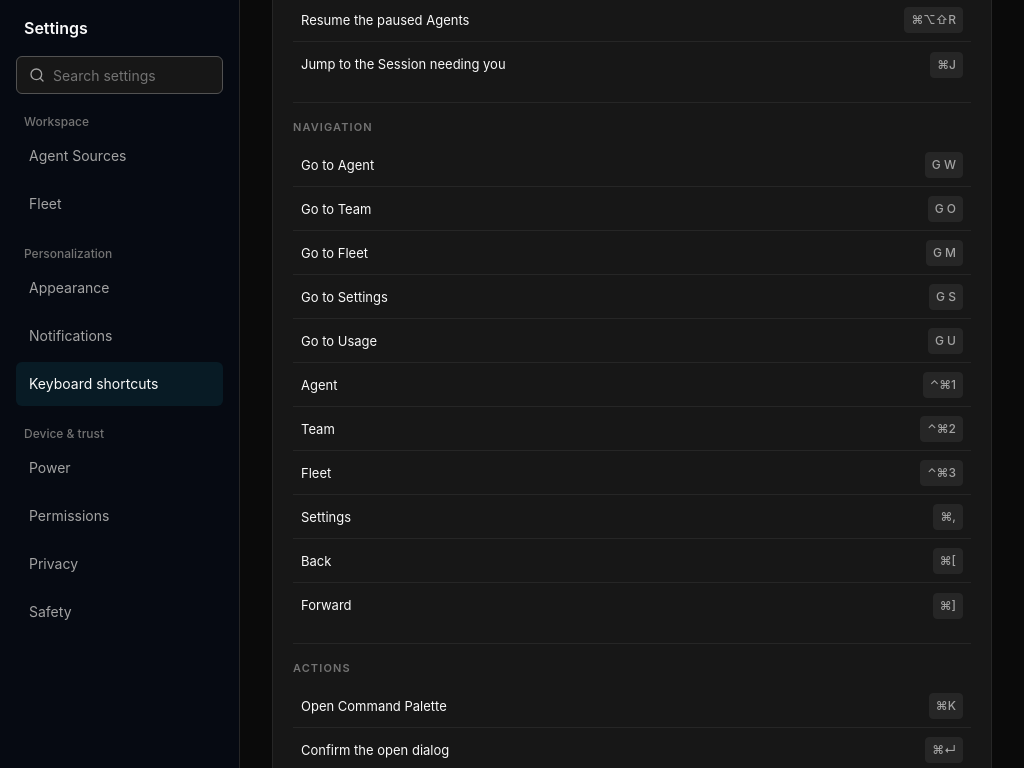
shortcut settings policy › rejects a physical Project ordinal even when Option changes its character
This screenshot has width=1024, height=768.
(page scrolled)
Click the button "⌃⌘1".
click(943, 384)  # box [923,371,963,398]
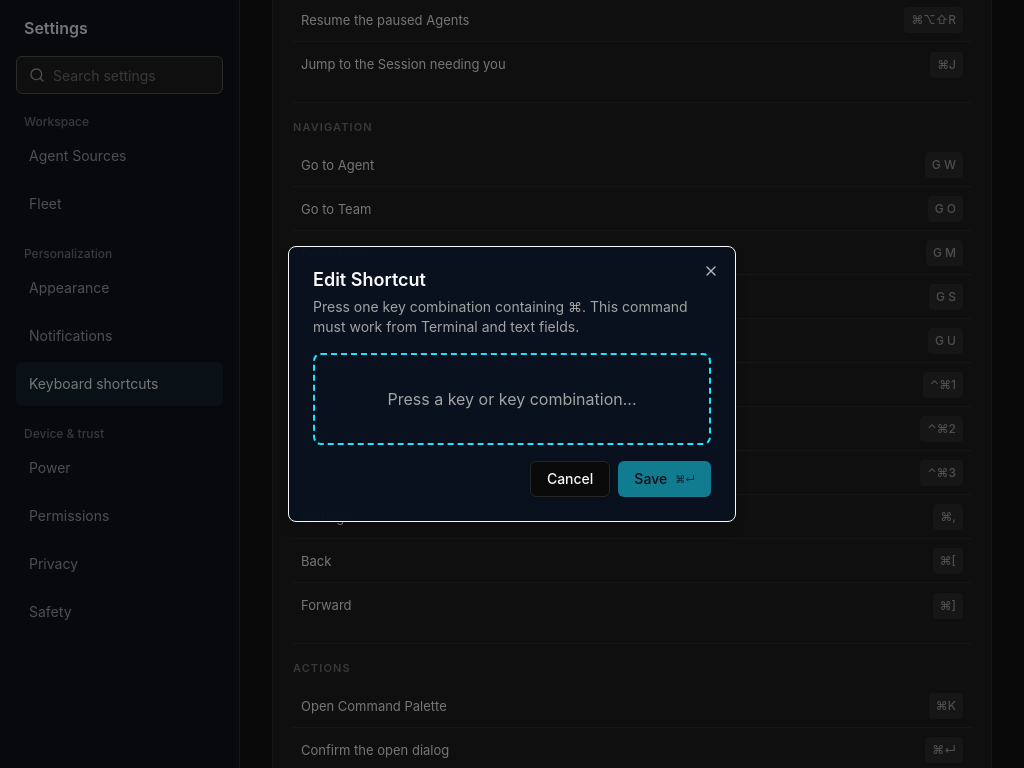
Press ¢ in the element showing "Press a key or key combination...", box [313,353,711,445]
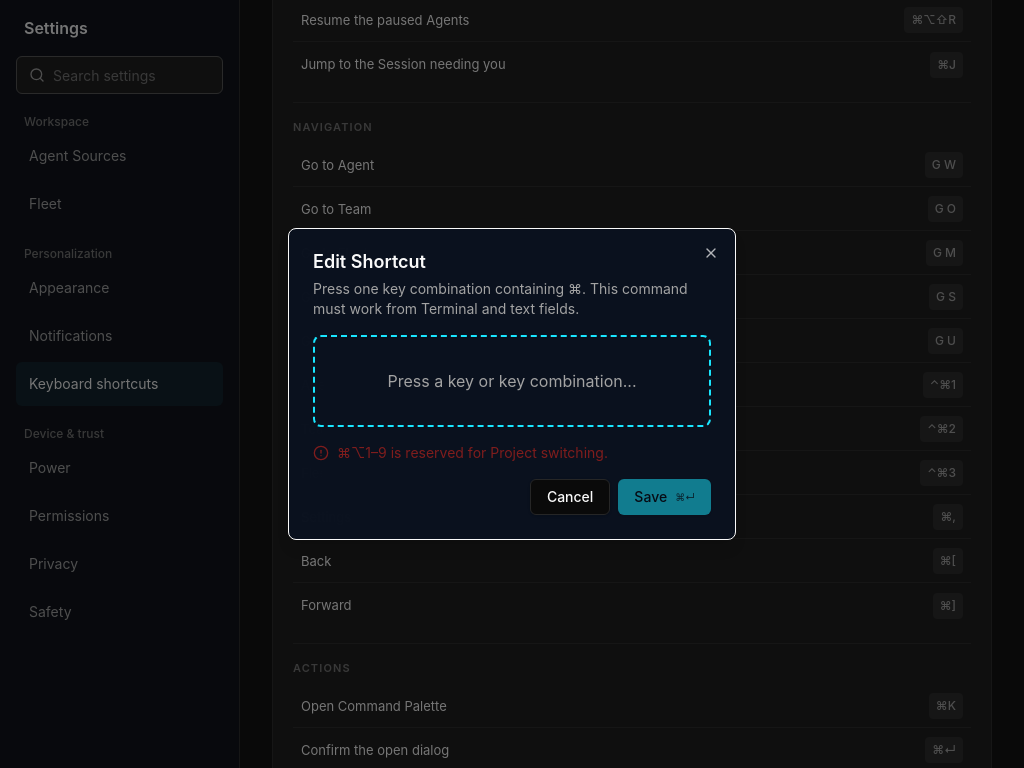
Result: the button "Save ⌘↵" is disabled at [618,479,711,515]
Result: the text "⌘⌥1–9 is reserved for Project switching." is shown at [313,444,608,461]
